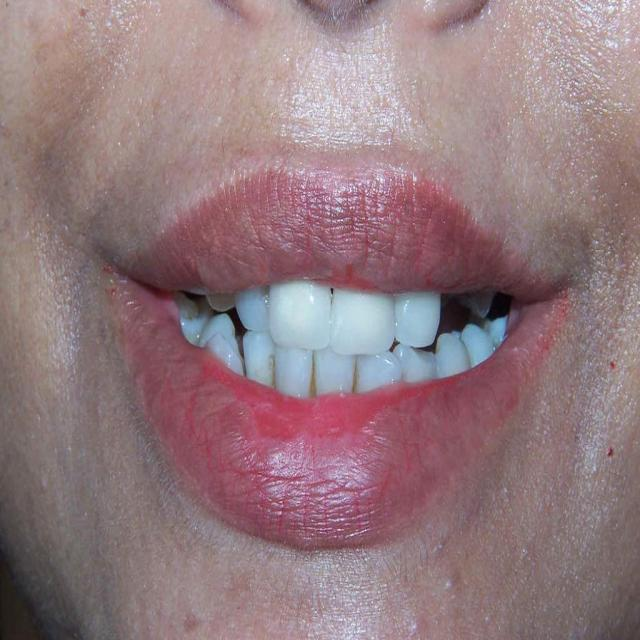tooth: (271, 282, 331, 349), (332, 286, 392, 350), (186, 310, 246, 367), (388, 291, 438, 356), (273, 346, 315, 402), (356, 354, 405, 392), (238, 291, 276, 338), (430, 336, 472, 377), (313, 355, 357, 392), (245, 332, 272, 385), (400, 352, 440, 382), (462, 327, 492, 363), (483, 310, 510, 347), (465, 286, 489, 324), (212, 292, 236, 312)
